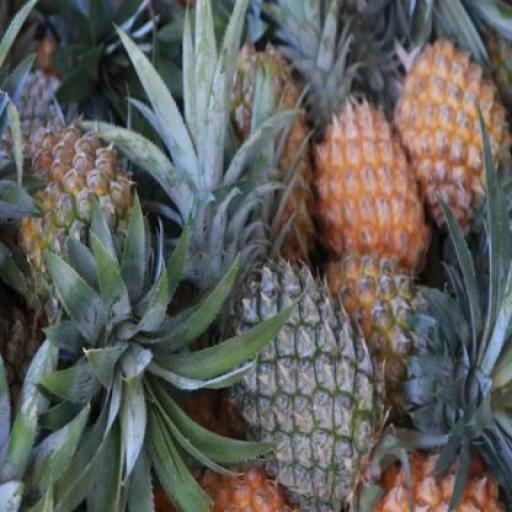------------------------------: (13, 122, 152, 333)
Pineapple - v8 v1: (399, 40, 511, 248), (310, 100, 425, 280)
